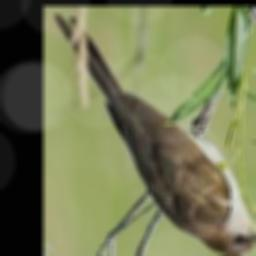Cuckoo: (53, 13, 256, 256)
